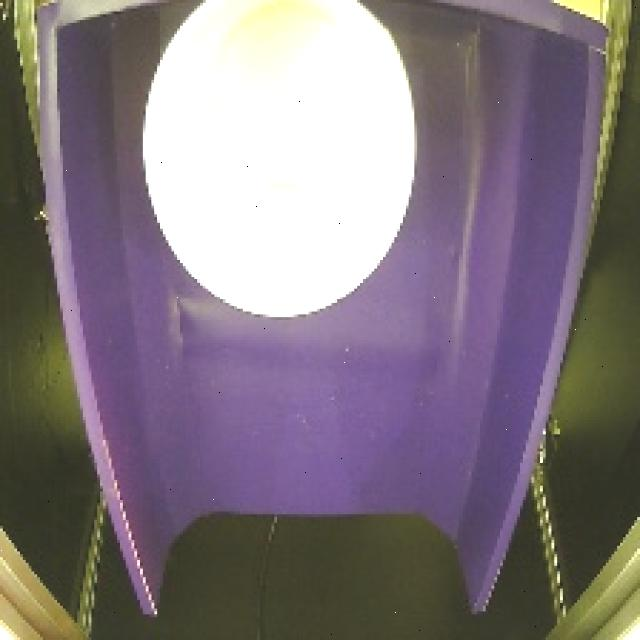cups: (134, 0, 426, 326)
